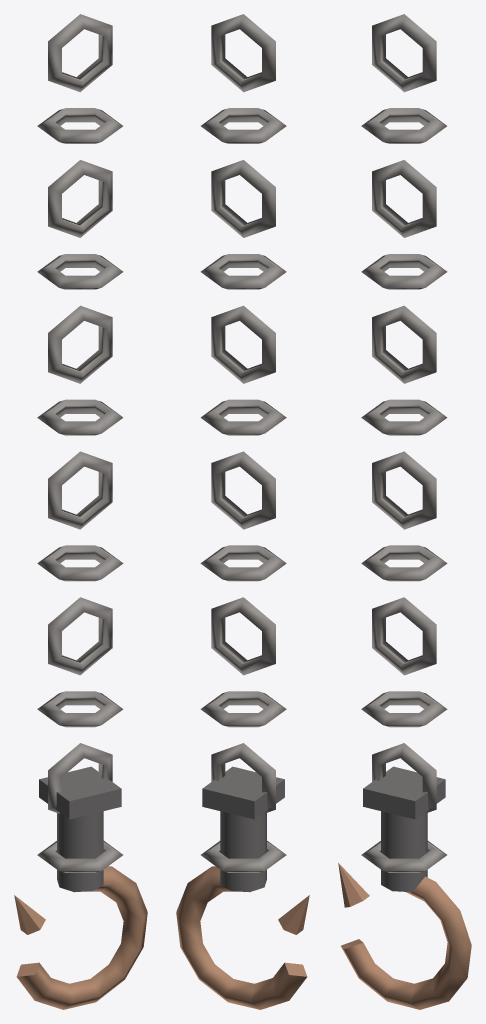
File: foundry_chain.glb
3 views of the same model, side by side, from view 1: azimuth 30°, elevation 25°; view 2: azimuth 150°, elevation 25°; view 3: azimuth 330°, elevation 25° (orthographic).
Visible parts, largest first — view 1: iron, hookrust, irondark; view 2: iron, hookrust, irondark; view 3: iron, hookrust, irondark.
Boxes of the visible parts, x1=… form: iron: x1=37, y1=14, x2=123, y2=872; hookrust: x1=14, y1=866, x2=147, y2=1009; irondark: x1=39, y1=766, x2=121, y2=892; iron: x1=200, y1=14, x2=286, y2=872; hookrust: x1=176, y1=866, x2=309, y2=1009; irondark: x1=202, y1=766, x2=284, y2=892; iron: x1=361, y1=14, x2=447, y2=872; hookrust: x1=338, y1=863, x2=471, y2=1009; irondark: x1=363, y1=766, x2=445, y2=892.
Bounding box in the file's own units: 0.7674 × 5.44 × 0.43.
